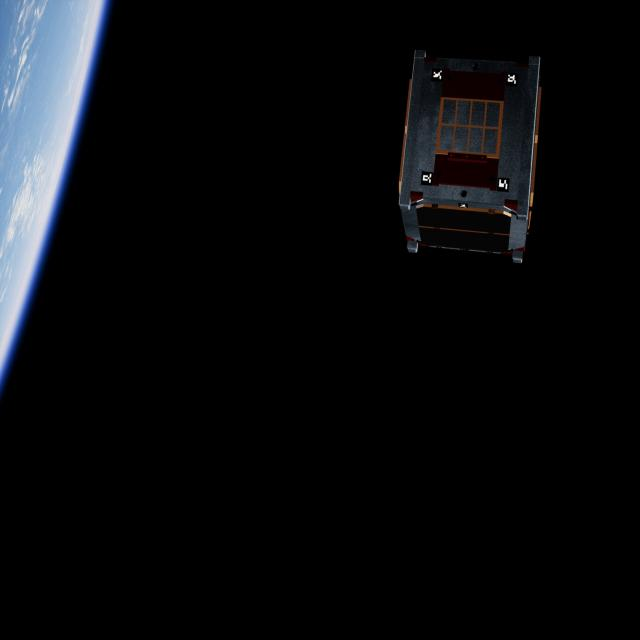medium_debris: (392, 34, 549, 269)
